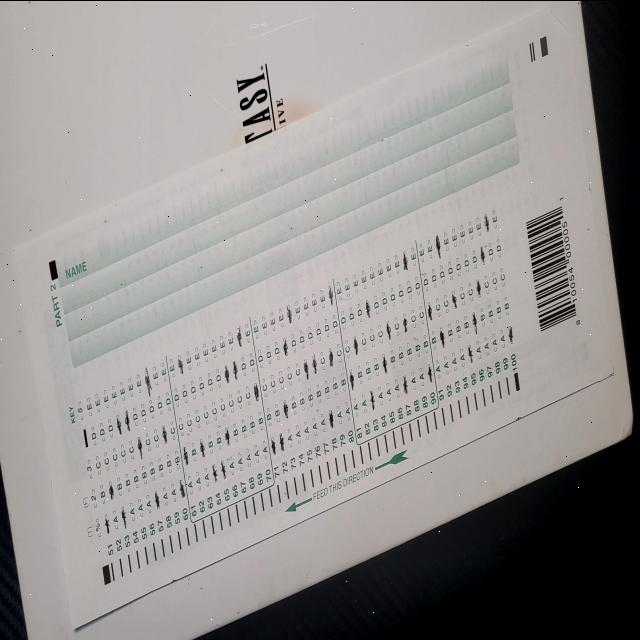scantron_back: (15, 6, 613, 629)
